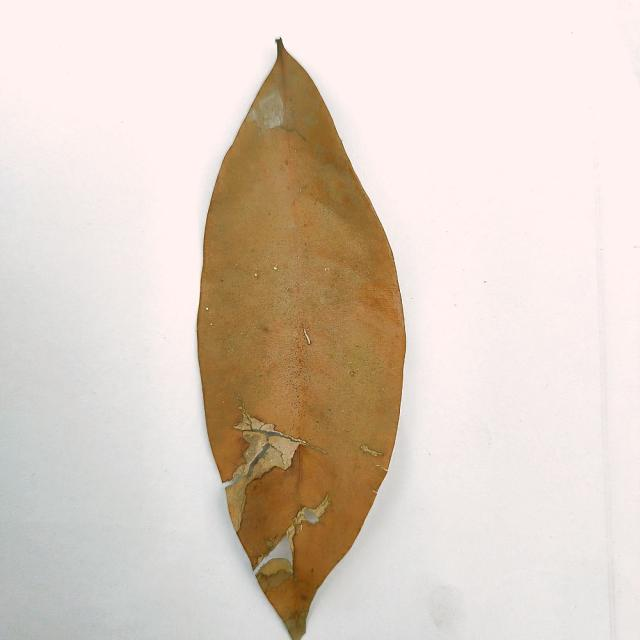Dry_Leaf-Lychee: (195, 40, 407, 639)
